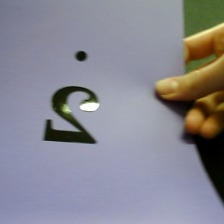violet2: (35, 48, 106, 149)
